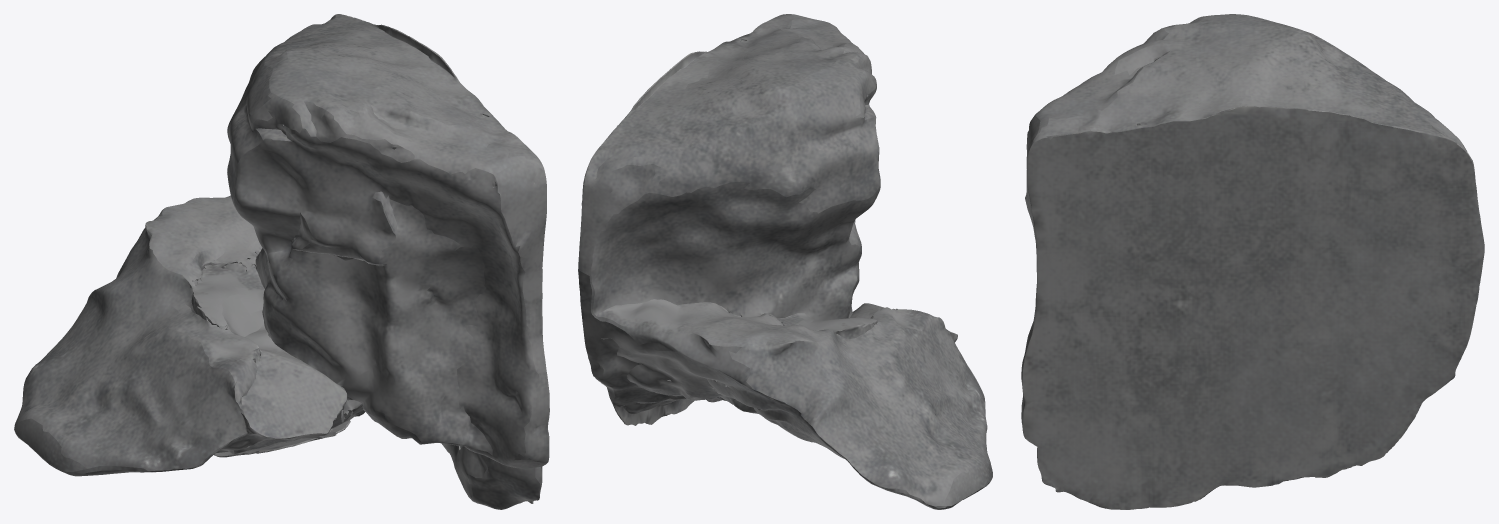
The picture shows the model from 3 angles, left to right: view 1: azimuth 30°, elevation 25°; view 2: azimuth 150°, elevation 25°; view 3: azimuth 270°, elevation 25°; orthographic projection. The views are drawn at different scales.
Visible parts, largest first — view 1: world; view 2: world; view 3: world.
Boxes of the visible parts, x1,y1,x2,y2 form: world: (14, 14, 549, 509); world: (578, 14, 992, 509); world: (1021, 14, 1484, 509).
Size of the model in its own units: 1.34 by 1.5 by 1.5.
Materials: 1 (1 with a texture image).
